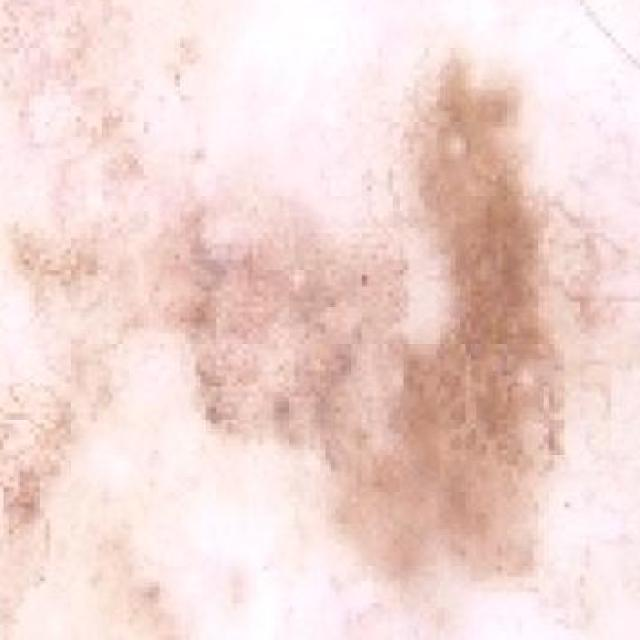BKL: (0, 0, 595, 603)
